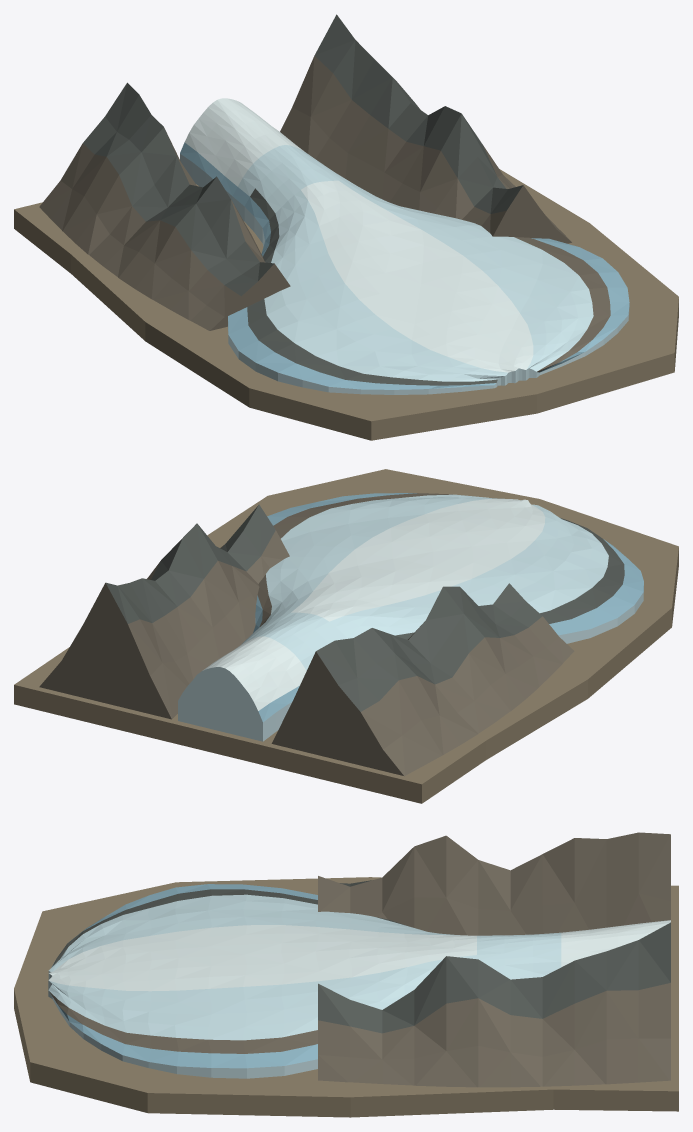
The model's file is piedmont-glacier.glb.
3 renders of one model, top to bottom at view 1: azimuth 30°, elevation 25°; view 2: azimuth 150°, elevation 25°; view 3: azimuth 270°, elevation 25°, orthographic. The views are drawn at different scales.
Visible parts, largest first — view 1: continuous-throat-spreading-lobe, foreland-substrate, west-mountain-shoulder, east-mountain-shoulder; view 2: continuous-throat-spreading-lobe, west-mountain-shoulder, foreland-substrate, east-mountain-shoulder; view 3: continuous-throat-spreading-lobe, east-mountain-shoulder, foreland-substrate, west-mountain-shoulder.
Part boxes in pixels (bbox=[...]): continuous-throat-spreading-lobe: bbox=[180, 98, 629, 394]; foreland-substrate: bbox=[14, 169, 678, 440]; west-mountain-shoulder: bbox=[39, 82, 290, 330]; east-mountain-shoulder: bbox=[280, 14, 571, 243]; continuous-throat-spreading-lobe: bbox=[178, 493, 643, 741]; west-mountain-shoulder: bbox=[271, 583, 574, 776]; foreland-substrate: bbox=[14, 469, 678, 803]; east-mountain-shoulder: bbox=[39, 504, 289, 719]; continuous-throat-spreading-lobe: bbox=[48, 884, 670, 1078]; east-mountain-shoulder: bbox=[318, 922, 670, 1087]; foreland-substrate: bbox=[14, 877, 678, 1117]; west-mountain-shoulder: bbox=[318, 832, 670, 935].
Size of the model in its own units: 1285 by 394 by 1640.
